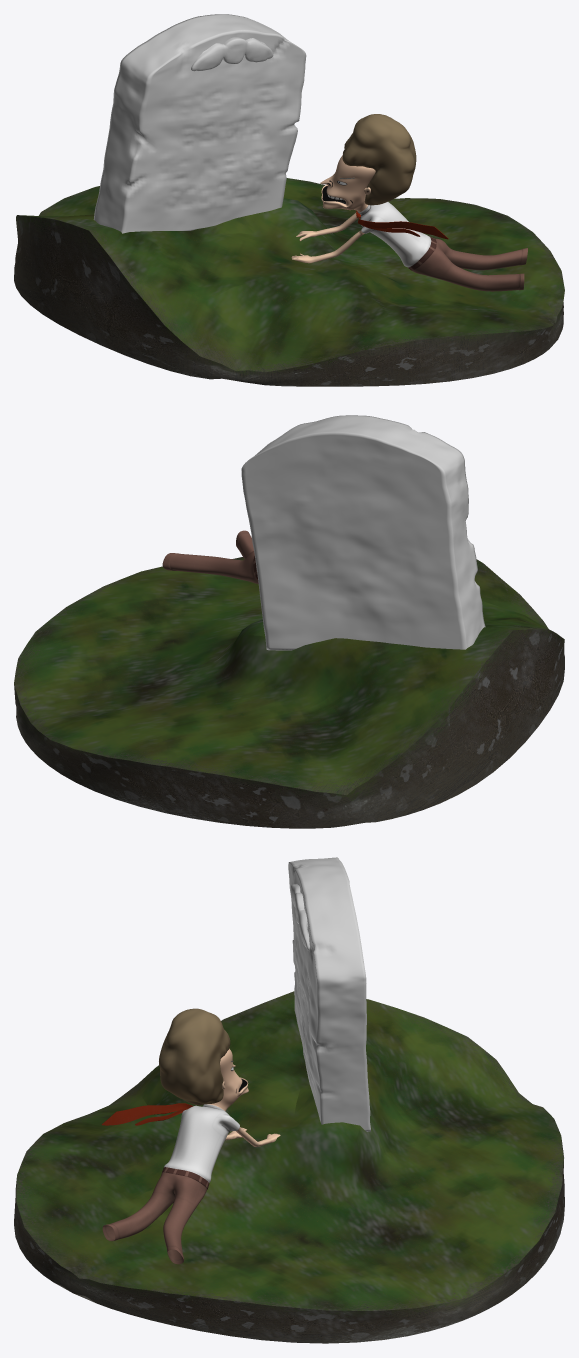
The model's file is beavis_lament.fbx.
3 views of the same model, one above another, from view 1: azimuth 30°, elevation 25°; view 2: azimuth 150°, elevation 25°; view 3: azimuth 270°, elevation 25° (orthographic). The views are drawn at different scales.
Parts seen in each view (by area): view 1: Chunk, Grave, Beavis, Tie; view 2: Chunk, Grave, Beavis; view 3: Chunk, Grave, Beavis, Tie.
Boxes of the visible parts, left/top/right/bottom form: Chunk: left=14, top=178, right=564, bottom=386; Grave: left=93, top=14, right=306, bottom=233; Beavis: left=291, top=114, right=527, bottom=291; Tie: left=356, top=210, right=448, bottom=239; Chunk: left=14, top=557, right=564, bottom=828; Grave: left=241, top=415, right=485, bottom=650; Beavis: left=162, top=530, right=258, bottom=583; Chunk: left=14, top=991, right=564, bottom=1343; Grave: left=288, top=857, right=370, bottom=1131; Beavis: left=102, top=1008, right=280, bottom=1264; Tie: left=101, top=1103, right=193, bottom=1125.
Size of the model in its own units: 2508 by 1620 by 2571.
